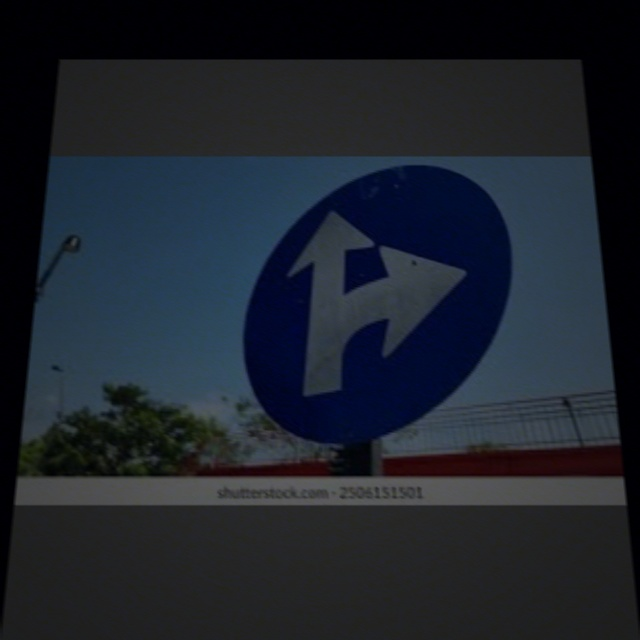Compulsory_Ahead_or_Turn_Right: (245, 174, 515, 449)
